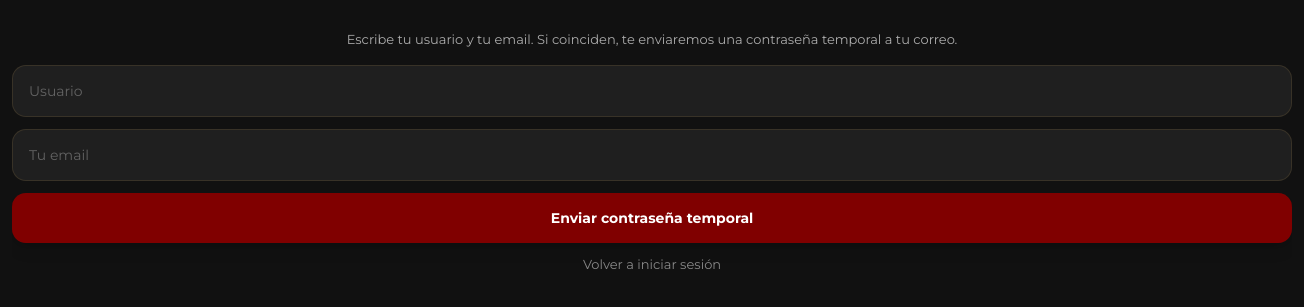
Test: ForgotPasswordForm › muestra error si la solicitud falla
Type "nadine" into the field with placeholder "Usuario".
click(652, 91); type("nadine")  # box [12,65,1292,117]
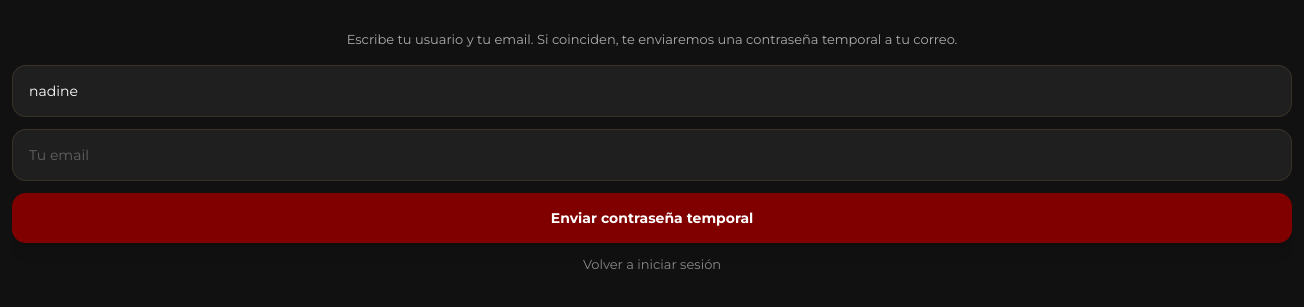
Type "nadine@correo.com" into the field with placeholder "Tu email".
click(652, 155); type("nadine@correo.com")  # box [12,129,1292,181]
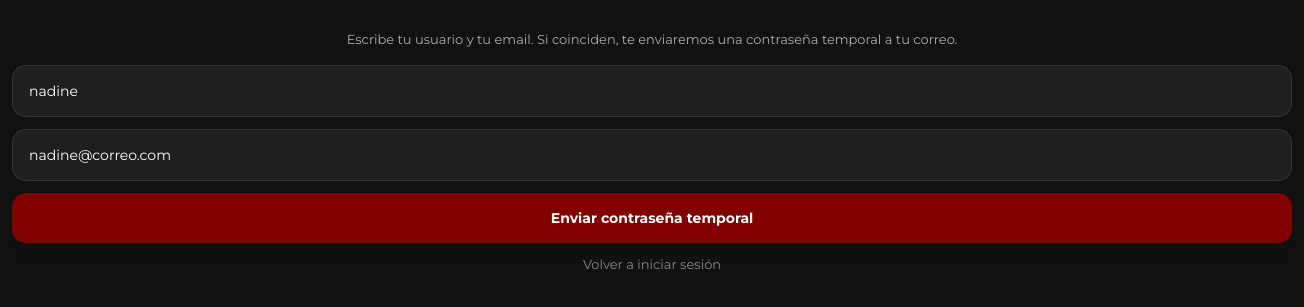
Click the button "Enviar contraseña temporal".
click(652, 218)  # box [12,193,1292,243]
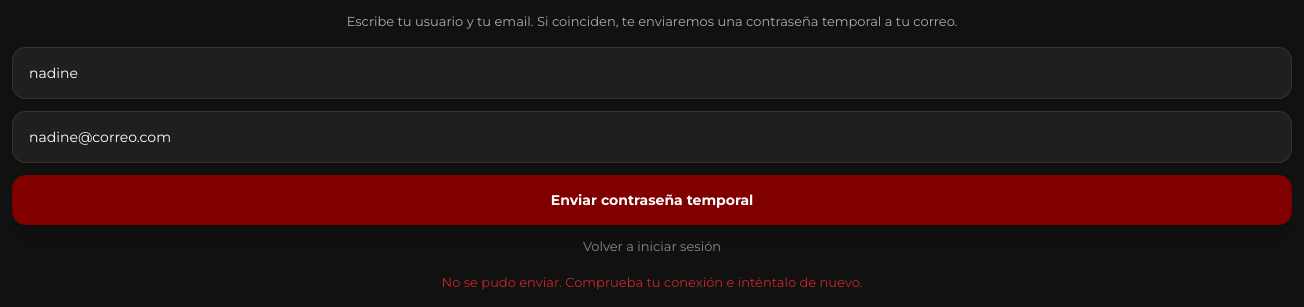
Expected: the text "No se pudo enviar" is shown, [442,274,862,290]
